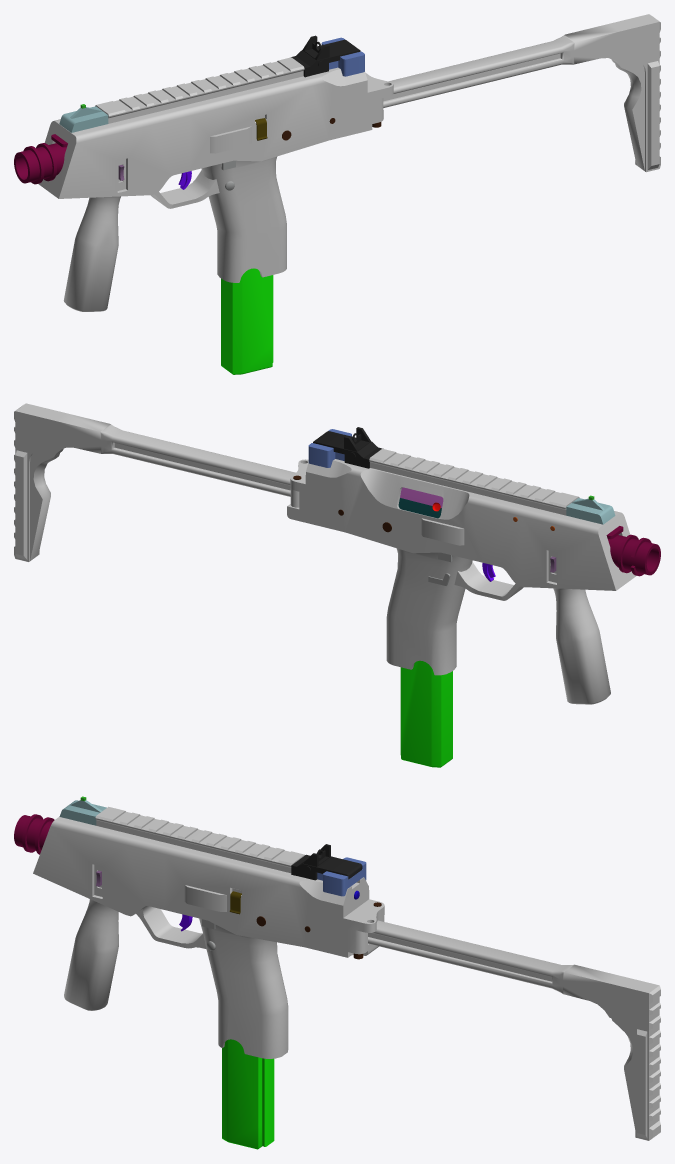
File: MP_smg_nine.fbx
3 renders of one model, top to bottom at view 1: azimuth 30°, elevation 25°; view 2: azimuth 150°, elevation 25°; view 3: azimuth 330°, elevation 25°, orthographic.
Visible parts, largest first — view 1: Object (×3); view 2: Object (×3); view 3: Object (×3).
Part boxes in pixels (x1,y1,x2,y2): Object (×3): (14, 14, 660, 374); Object (×3): (14, 403, 660, 767); Object (×3): (14, 796, 660, 1149).
Bounding box in the file's own units: 381 × 177 × 30.2.
